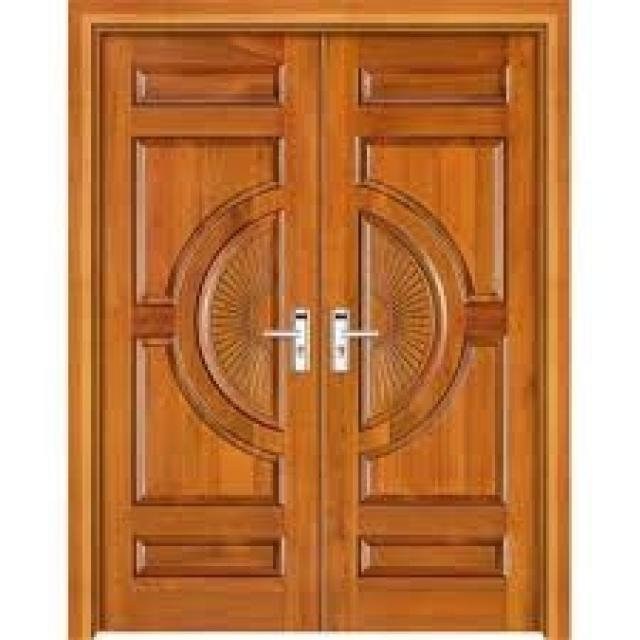doorhandle: (71, 3, 552, 634), (255, 311, 311, 355), (329, 319, 386, 348)
